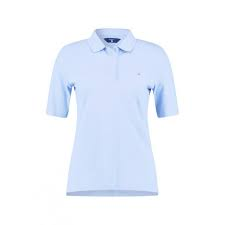S_polo shirt: (47, 26, 174, 191)
